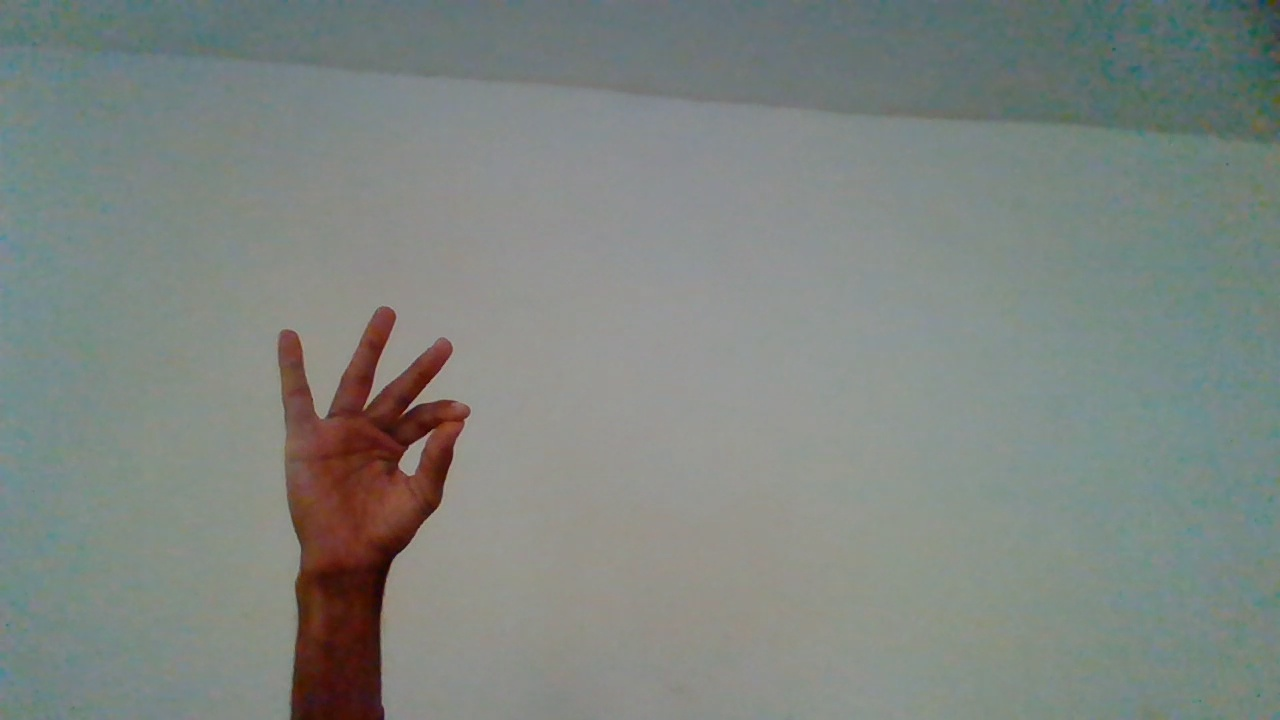le: (275, 302, 472, 695)
